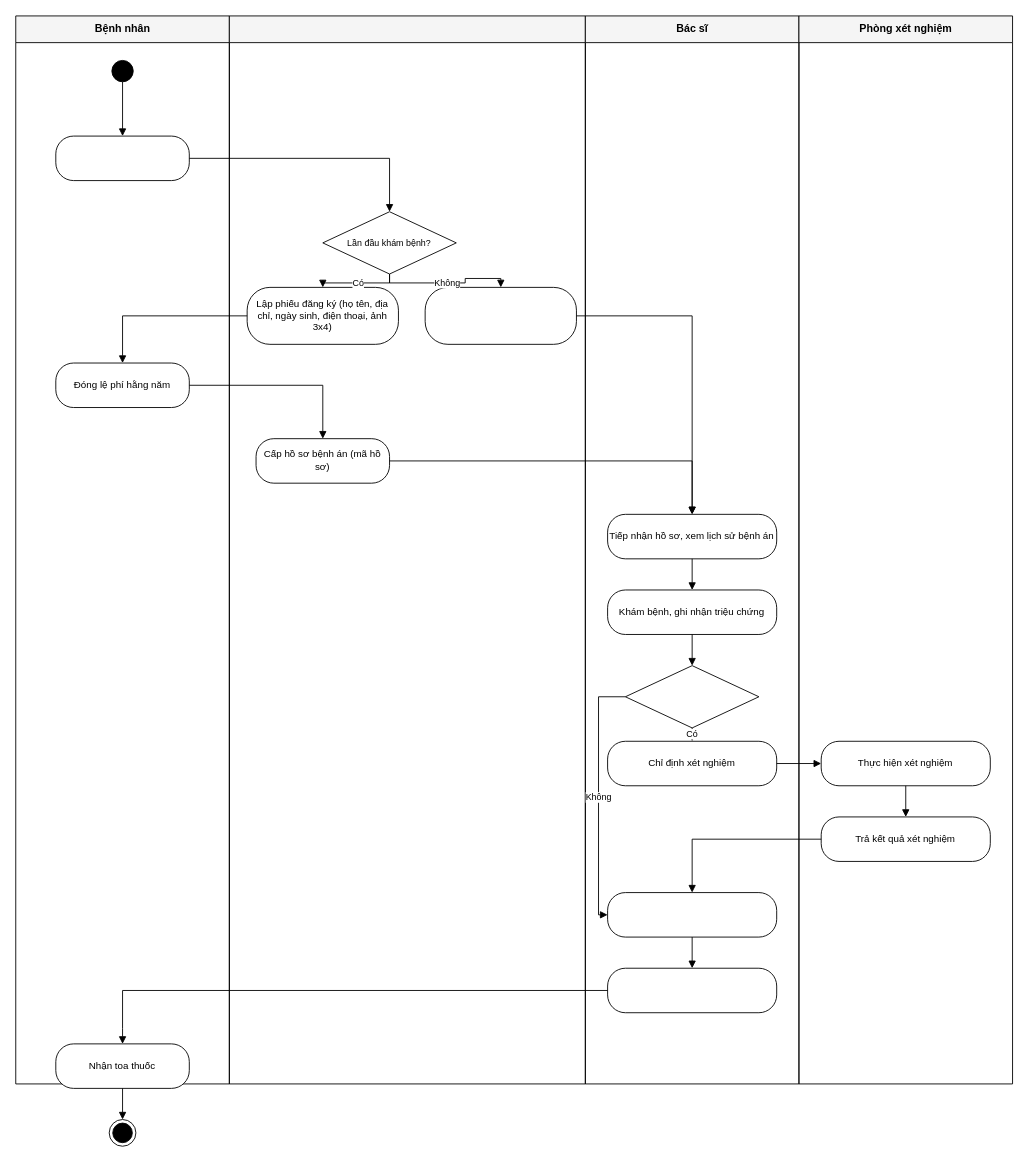
Image size: 1028x1161. Some labels were removed from this diagram. The shapes that lost their labels are listed below. From the top down, each one's box as (x1, y1, x2, y2) in pixels, then its label:
(55, 135, 189, 181): Đến bệnh viện
(424, 286, 576, 344): Tra cứu hồ sơ theo mã hồ sơ / thông tin tìm kiếm
(228, 15, 585, 1084): Lễ tân / CSKH
(625, 665, 759, 728): Cần xét nghiệm?
(607, 892, 777, 937): Xem kết quả, chẩn đoán
(607, 967, 777, 1013): Lập toa thuốc
